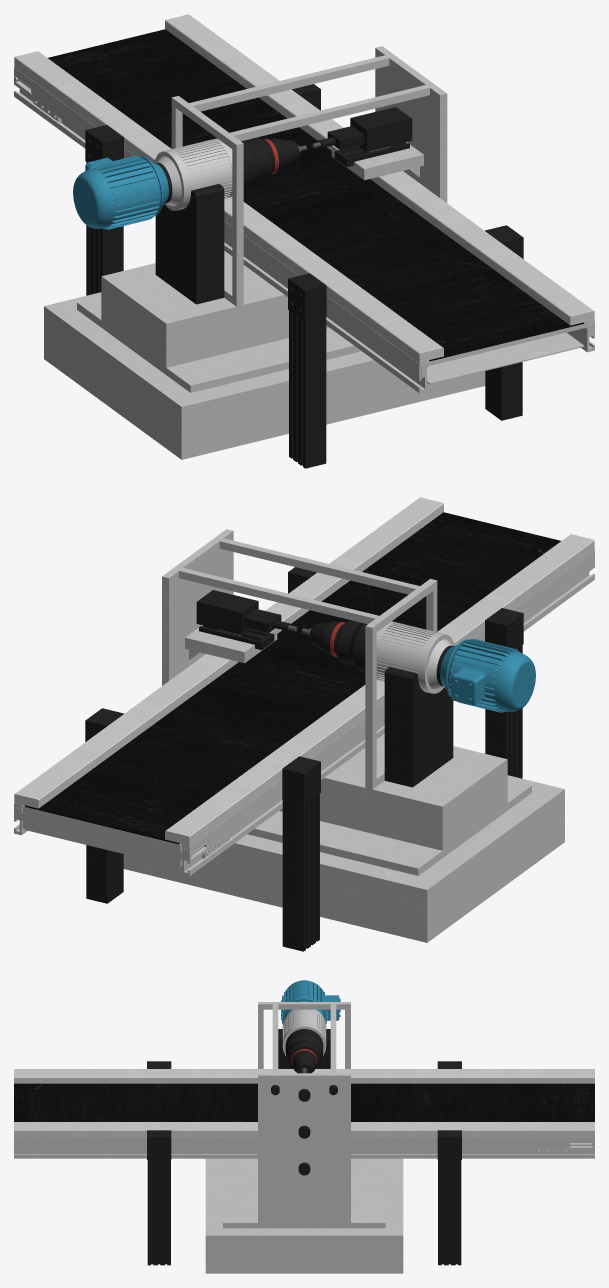
File: Riveting_Station.glb
3 views of the same model, one above another, from view 1: azimuth 30°, elevation 25°; view 2: azimuth 150°, elevation 25°; view 3: azimuth 270°, elevation 25° (orthographic). The views are drawn at different scales.
Size of the model in its own units: 0.5 by 0.362 by 1.
Materials: 7 (7 with a texture image).
